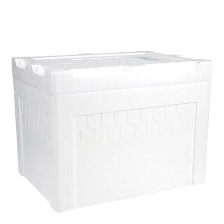foam_box: (5, 44, 219, 217)
